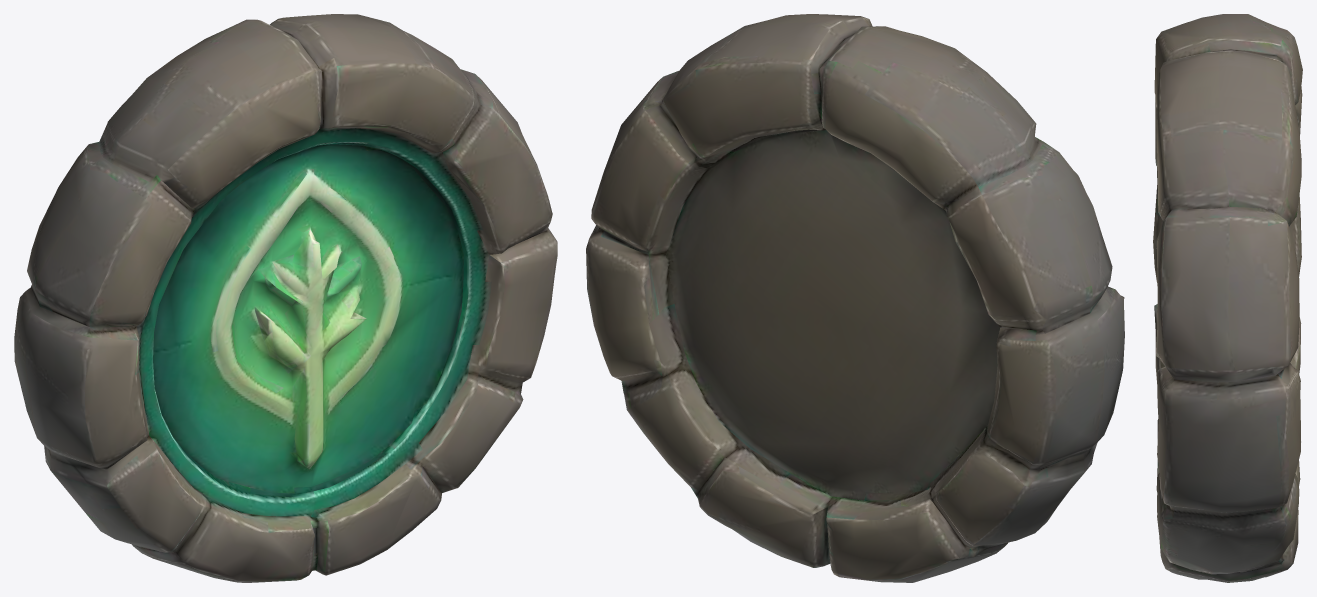
File: medal.glb
3 renders of one model, left to right at view 1: azimuth 30°, elevation 25°; view 2: azimuth 150°, elevation 25°; view 3: azimuth 270°, elevation 25°, orthographic. The views are drawn at different scales.
Visible parts, largest first — view 1: tripo_node_c5b42123-cb0f-4dab-92e0-1b79090febeb; view 2: tripo_node_c5b42123-cb0f-4dab-92e0-1b79090febeb; view 3: tripo_node_c5b42123-cb0f-4dab-92e0-1b79090febeb.
Part boxes in pixels (x1,y1,x2,y2): tripo_node_c5b42123-cb0f-4dab-92e0-1b79090febeb: [14, 14, 557, 582]; tripo_node_c5b42123-cb0f-4dab-92e0-1b79090febeb: [586, 14, 1124, 582]; tripo_node_c5b42123-cb0f-4dab-92e0-1b79090febeb: [1153, 14, 1302, 582].
Bounding box in the file's own units: 0.9833 × 0.9891 × 0.2589.
Materials: 1 (1 with a texture image).
